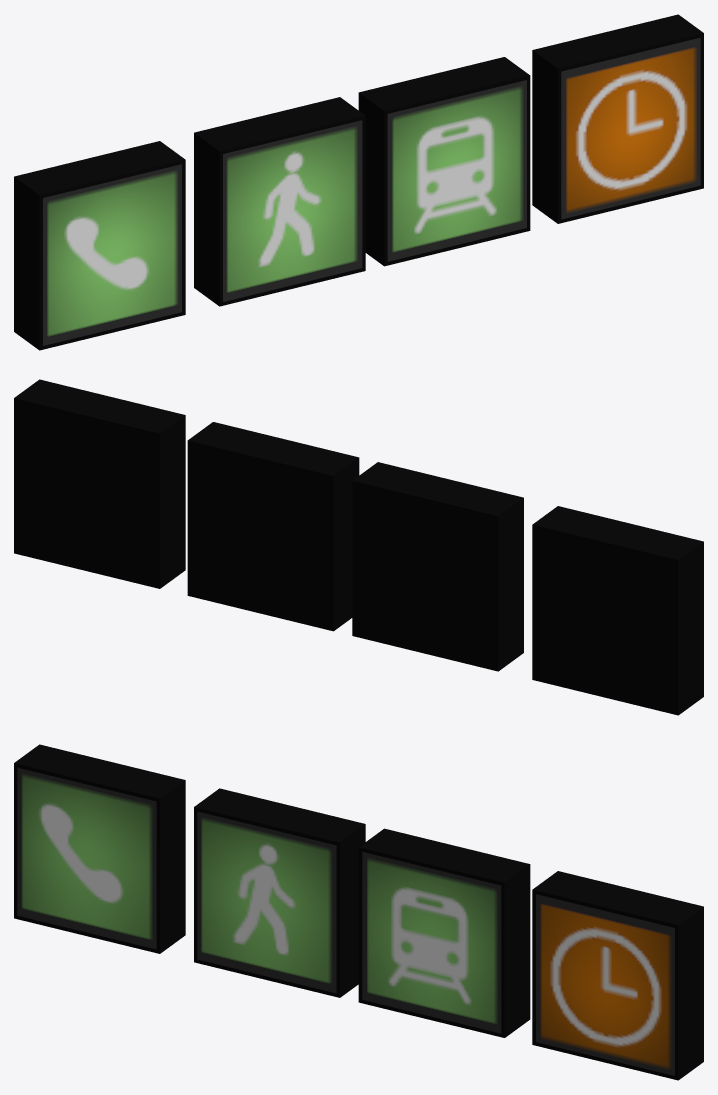
Rendered from SignGroup.fbx.
The picture shows the model from 3 angles, top to bottom: view 1: azimuth 30°, elevation 25°; view 2: azimuth 150°, elevation 25°; view 3: azimuth 330°, elevation 25°; orthographic projection.
Visible parts, largest first — view 1: Cube; view 2: Cube; view 3: Cube.
Boxes of the visible parts, <box> form: Cube: <box>14,14,703,350</box>; Cube: <box>14,379,703,715</box>; Cube: <box>14,744,703,1080</box>.
Bounding box in the file's own units: 272 × 60.77 × 18.11.
